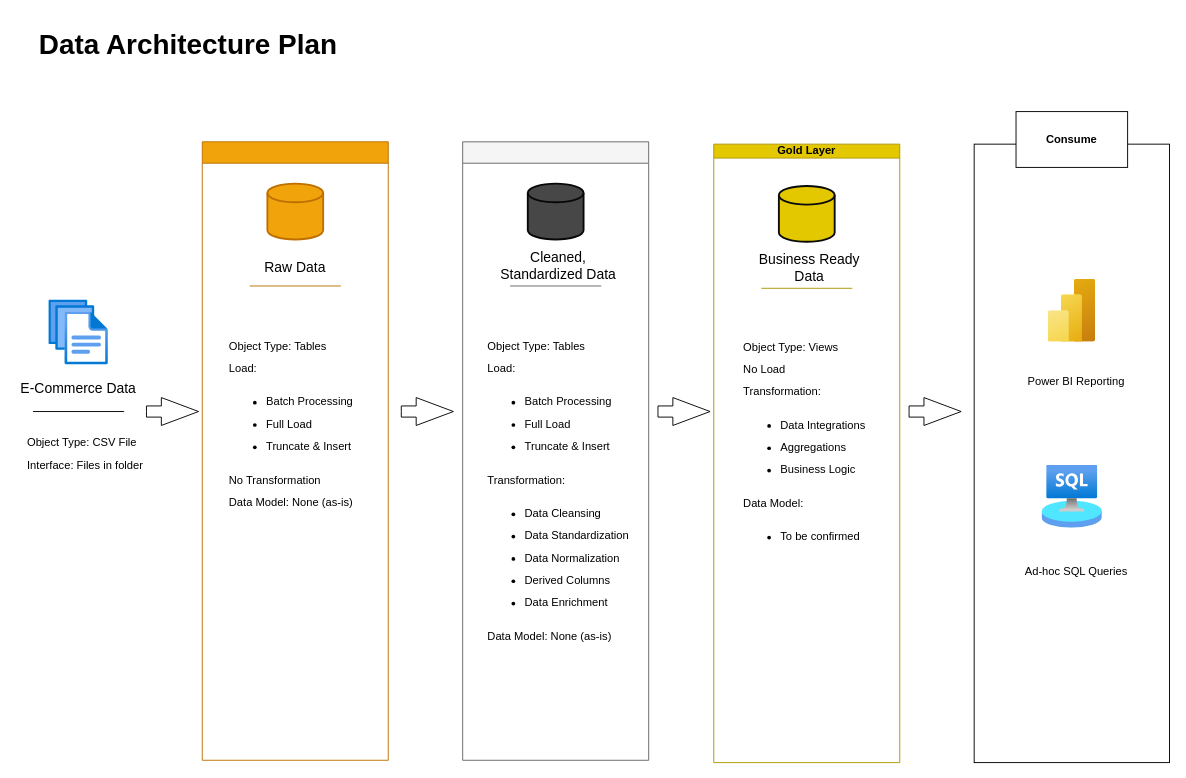
Some shapes in this 1186 by 778 pixel diagram are drawn without their labels. Each missing label, with the box of its shape:
Bronze Layer: (201, 141, 388, 760)
Silver Layer: (462, 141, 649, 760)
